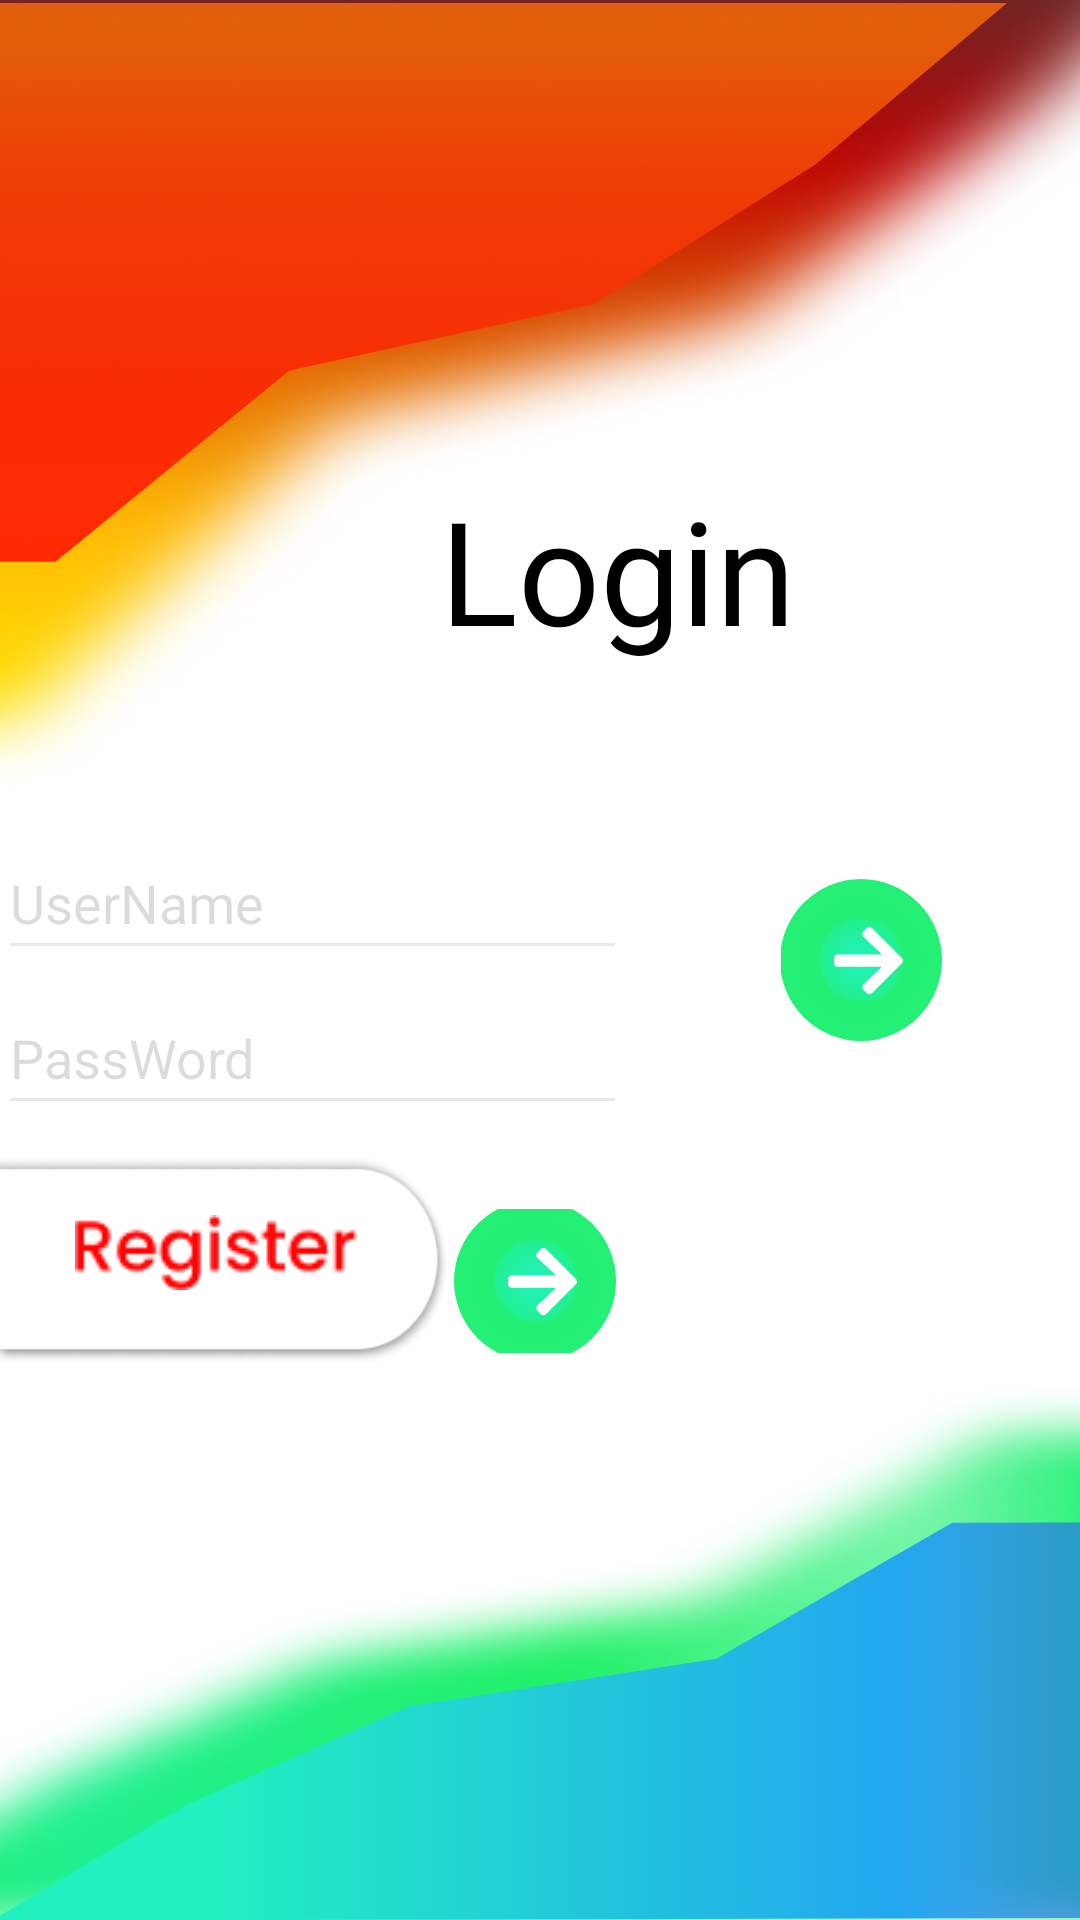

Icons on this 1080 × 1920 Android screen, each with the point to tap as (x=x, y=y):
giris: (x=861, y=960), (x=535, y=1281)
